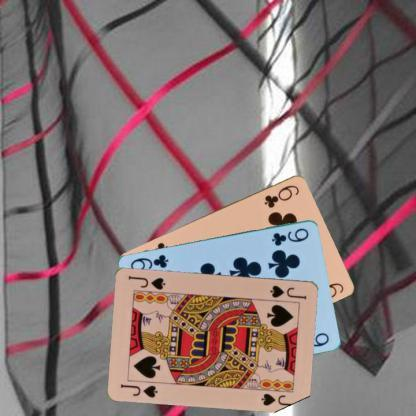6c: (261, 182, 301, 209)
9c: (268, 226, 310, 248)
Js: (118, 381, 159, 399), (268, 282, 308, 300)
